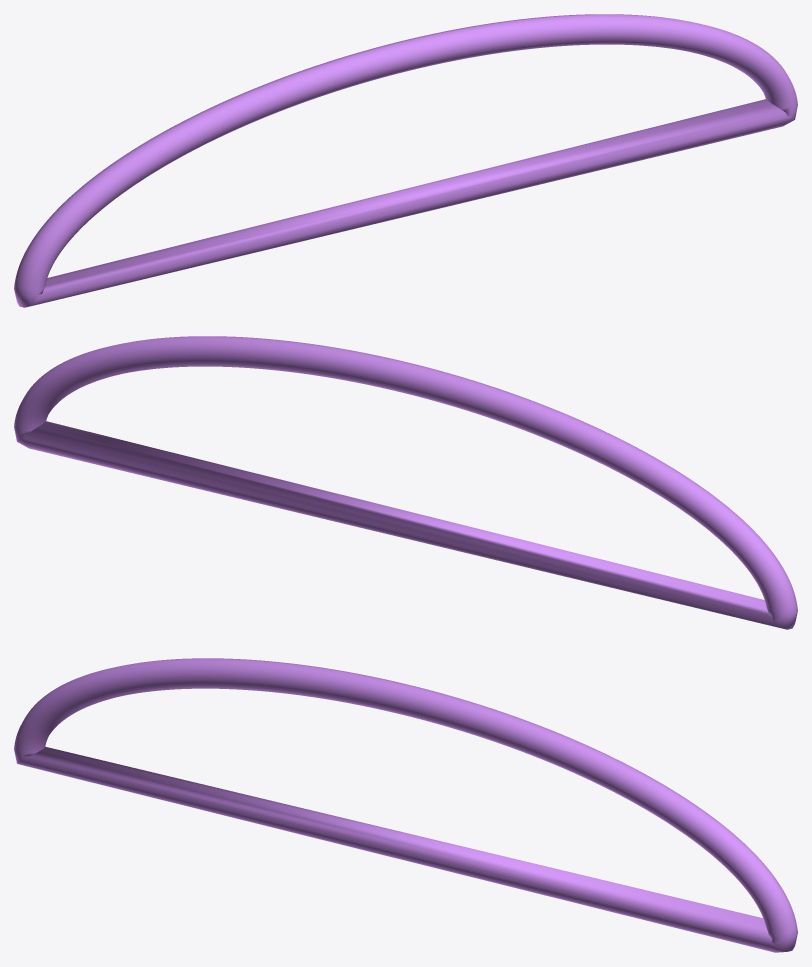
Rendered from wide-canopy-C49qa1d1.glb.
3 views of the same model, one above another, from view 1: azimuth 30°, elevation 25°; view 2: azimuth 150°, elevation 25°; view 3: azimuth 330°, elevation 25° (orthographic).
Visible parts, largest first — view 1: R3D_wide-canopy_Body_0; view 2: R3D_wide-canopy_Body_0; view 3: R3D_wide-canopy_Body_0.
Boxes of the visible parts, x1,y1,x2,y2 form: R3D_wide-canopy_Body_0: (14,14,797,307); R3D_wide-canopy_Body_0: (14,336,797,629); R3D_wide-canopy_Body_0: (14,658,797,952).
Size of the model in its own units: 5.28 by 1.13 by 0.18.
